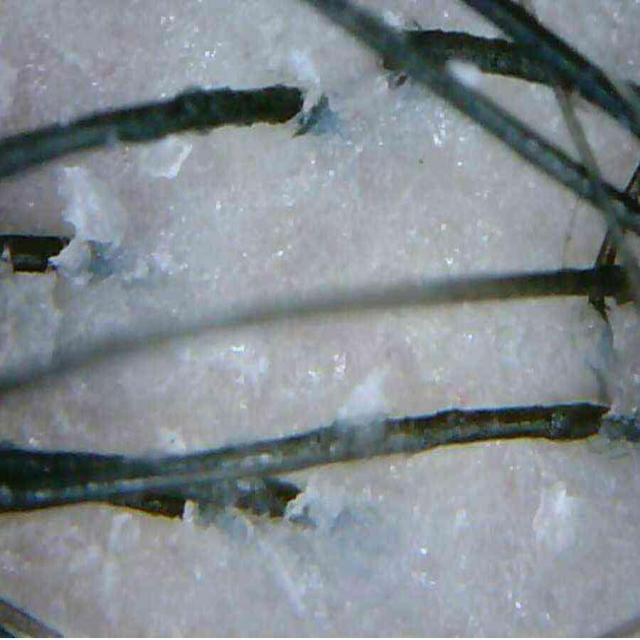d: (59, 166, 126, 247), (291, 50, 329, 136), (138, 137, 192, 179), (49, 237, 92, 286), (446, 61, 484, 86)
ds: (532, 481, 576, 555), (336, 369, 389, 421)
